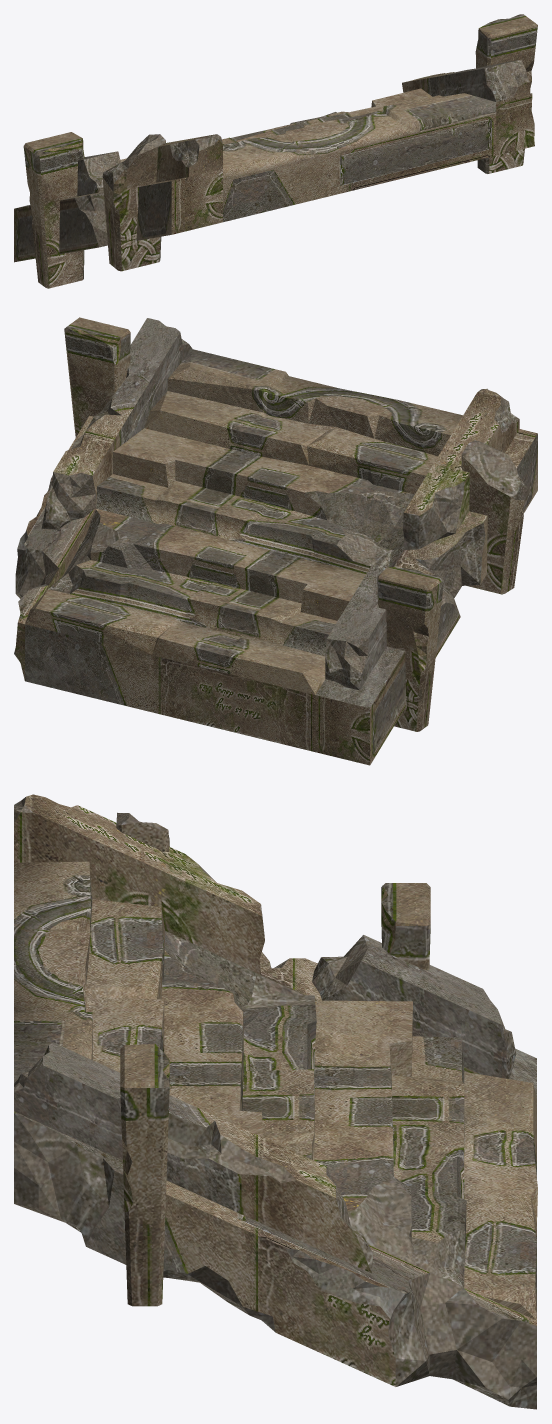
The model's file is bg_lut_lutomb_brokenstair01b_sm_old.FBX.
3 renders of one model, top to bottom at view 1: azimuth 30°, elevation 25°; view 2: azimuth 150°, elevation 25°; view 3: azimuth 270°, elevation 25°, orthographic. The views are drawn at different scales.
Visible parts, largest first — view 1: bg_lut_lutomb_brokenstair01b_sm_old; view 2: bg_lut_lutomb_brokenstair01b_sm_old; view 3: bg_lut_lutomb_brokenstair01b_sm_old.
Boxes of the visible parts, box(x1,y1,x2,y2) form: bg_lut_lutomb_brokenstair01b_sm_old: box(14, 14, 537, 288); bg_lut_lutomb_brokenstair01b_sm_old: box(14, 317, 537, 765); bg_lut_lutomb_brokenstair01b_sm_old: box(14, 794, 537, 1409).
Size of the model in its own units: 595 by 313 by 385.
